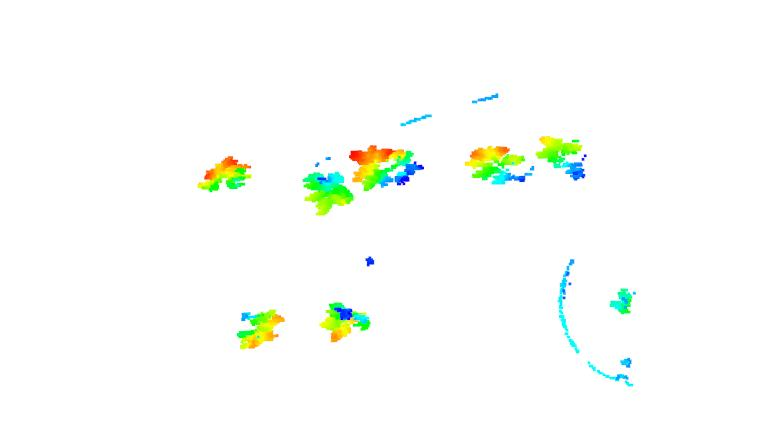chickpea: (348, 141, 424, 194), (462, 141, 536, 189), (193, 150, 253, 198), (537, 129, 591, 182), (232, 303, 289, 353), (301, 169, 356, 216), (319, 301, 378, 343)
